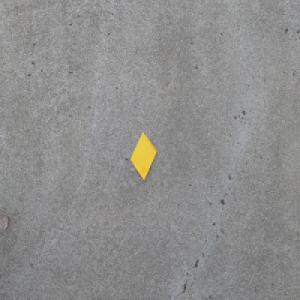PlasticPart: (130, 131, 157, 180)
